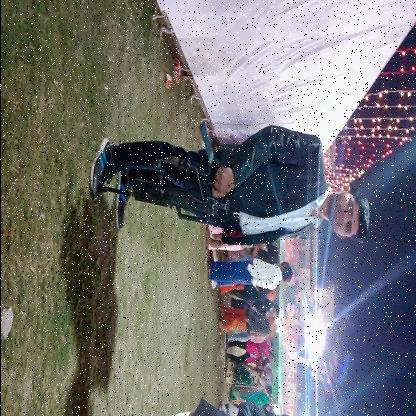rifle: (94, 154, 230, 226)
